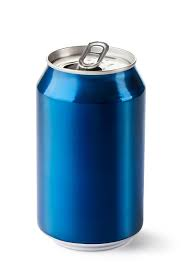can: (34, 40, 144, 251)
